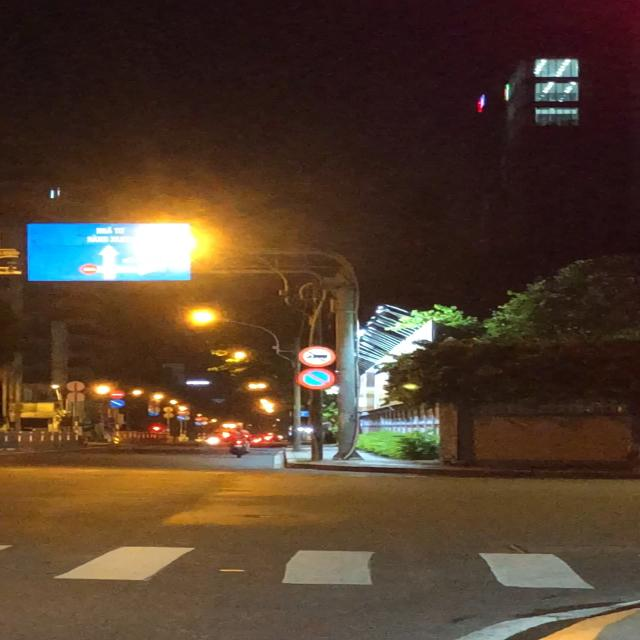Bien bao cam do xe: (292, 368, 341, 391)
Bien bao cam xe so-mi ro-mooc: (294, 346, 338, 368)
